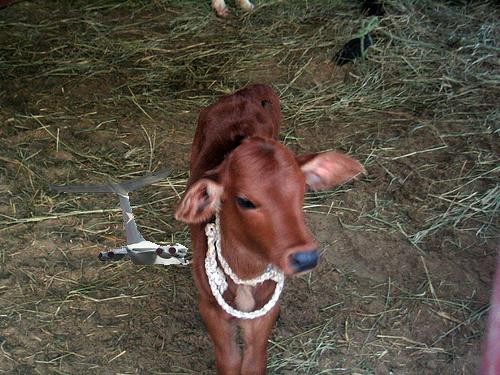tampered: (47, 167, 189, 265)
